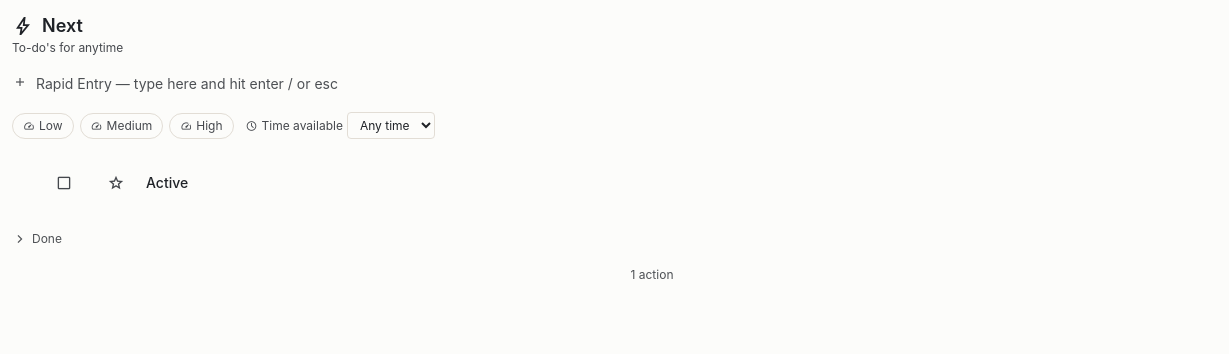
Test: ActionList › collapses Done section on second click
Step 1. Click the button with aria-label "Expand Done" → (37, 239), box [12,227,62,251]
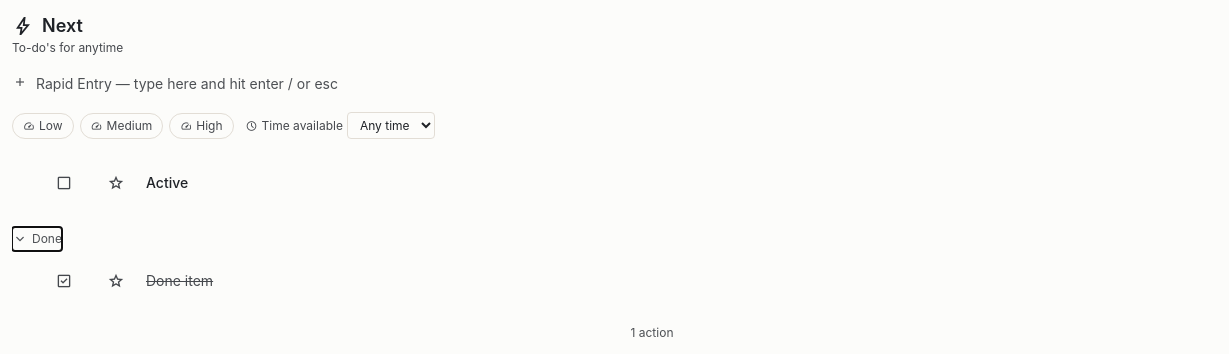
Check: the button "Done item" is shown, box [146,271,1212,291]
Step 2. Click the button with aria-label "Collapse Done" → (37, 239), box [12,227,62,251]
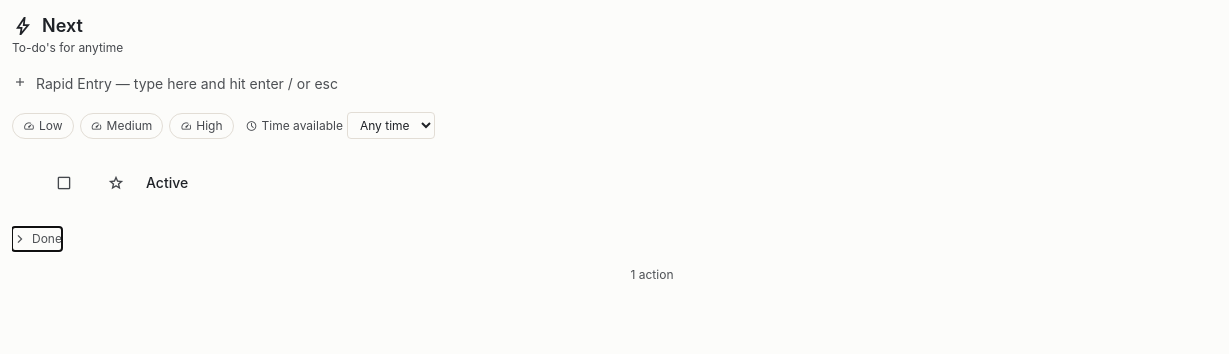
Check: the button "Done item" is gone
